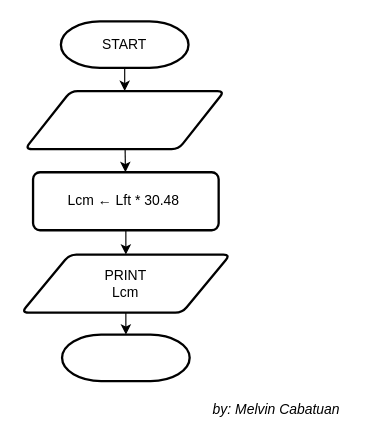
This 383x447 diagram has some shape labels left out. Here are the shapes that lost their labels. From the top down, the box of each, then its label:
(23, 89, 225, 150): Input Lft
(60, 333, 190, 382): STOP
